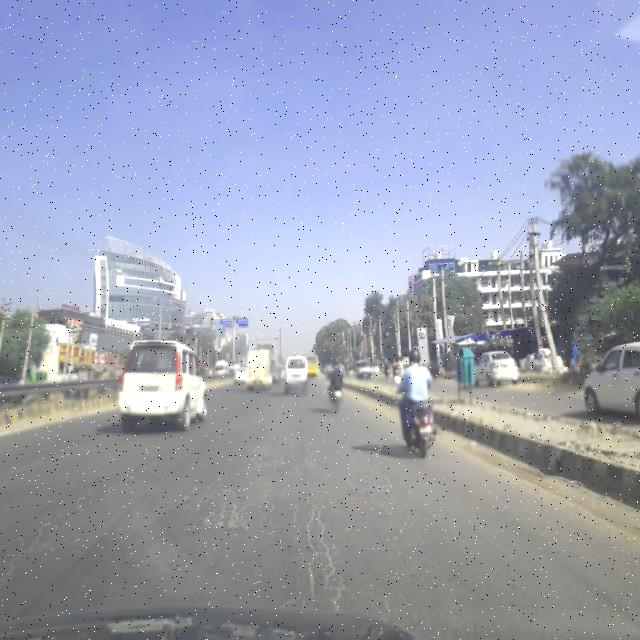D00: (299, 497, 352, 609)
D20: (182, 433, 334, 557), (1, 448, 144, 575)
